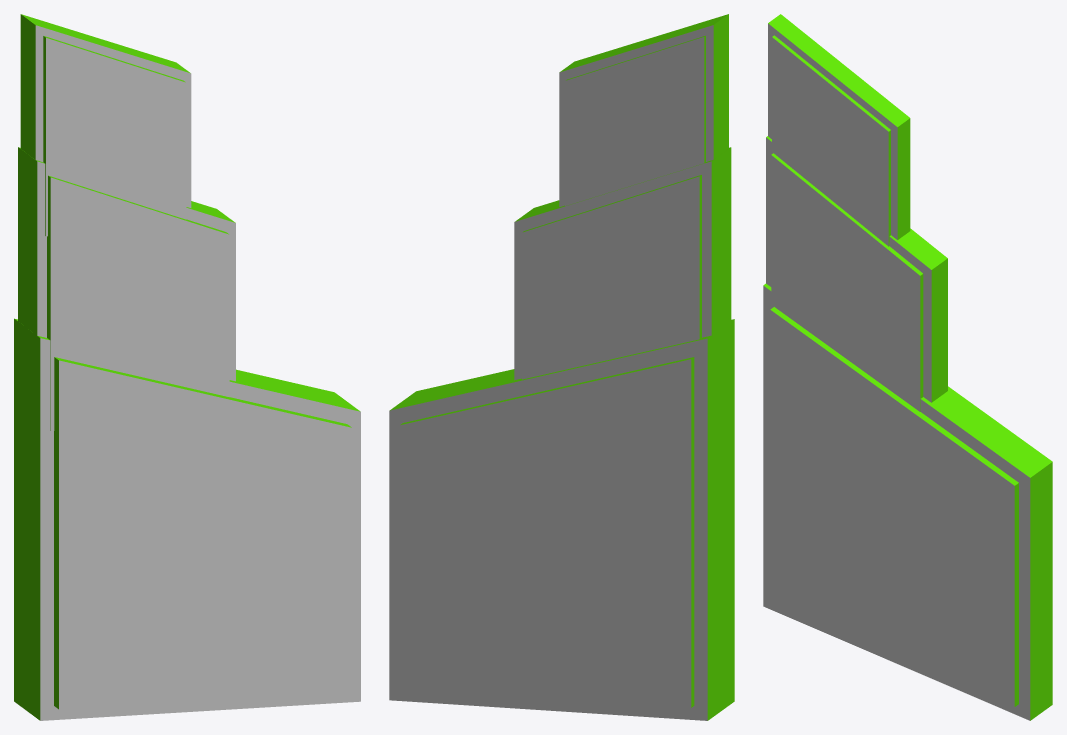
The model's file is altk_lv9.fbx.
3 renders of one model, left to right at view 1: azimuth 30°, elevation 25°; view 2: azimuth 150°, elevation 25°; view 3: azimuth 330°, elevation 25°, orthographic. The views are drawn at different scales.
Parts seen in each view (by area): view 1: altk_lv9; view 2: altk_lv9; view 3: altk_lv9.
Boxes of the visible parts, bbox=[...] form: altk_lv9: bbox=[14, 14, 360, 720]; altk_lv9: bbox=[389, 14, 734, 720]; altk_lv9: bbox=[763, 14, 1052, 720].
Bounding box in the file's own units: 84.46 × 189 × 16.19.
